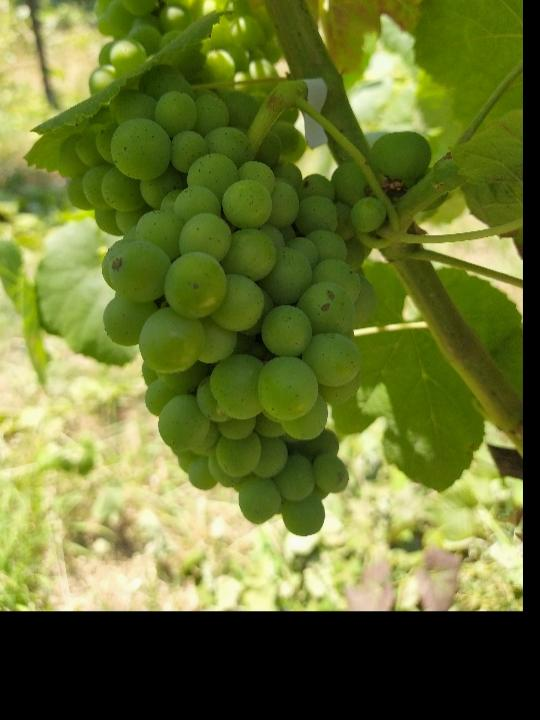grape: (60, 63, 434, 540)
